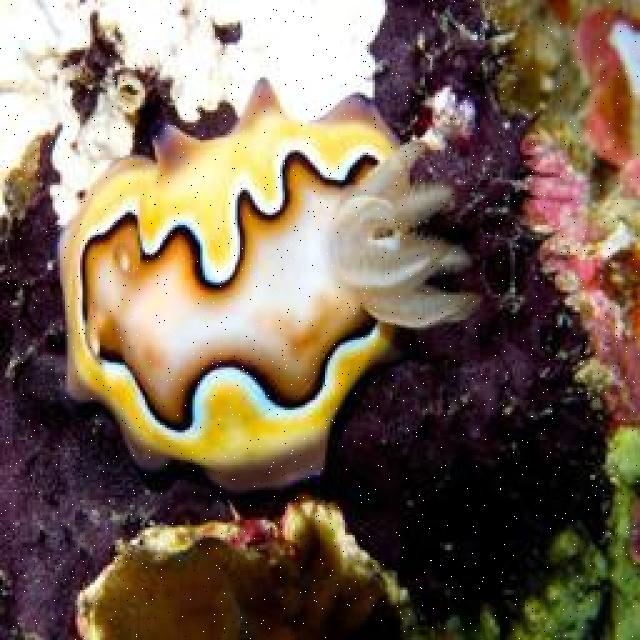reefs: (55, 70, 486, 496)
